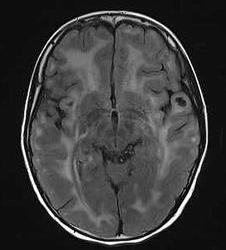Normal_Brain: (8, 1, 226, 250)
